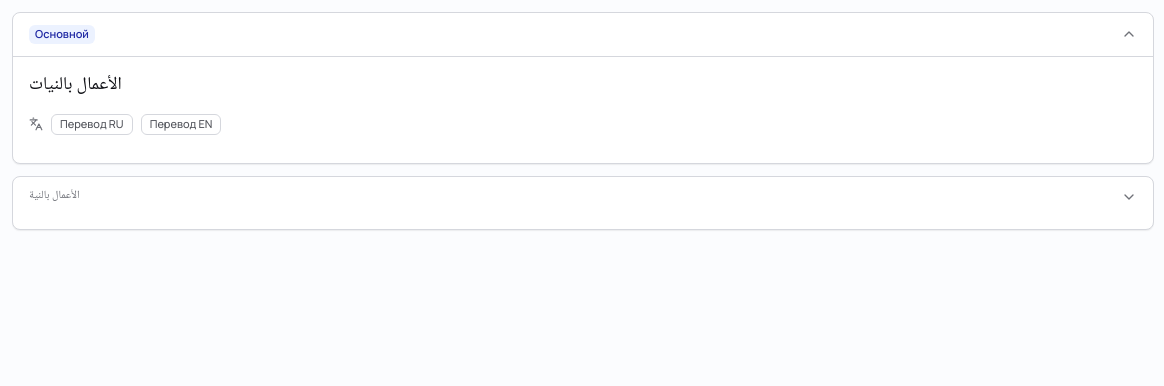
it: MatnVariations › toggle раскрывает пословный diff (легенда + кнопка скрытия)
Click the button "الأعمال بالنية".
click(54, 196)  # box [13,177,1153,217]
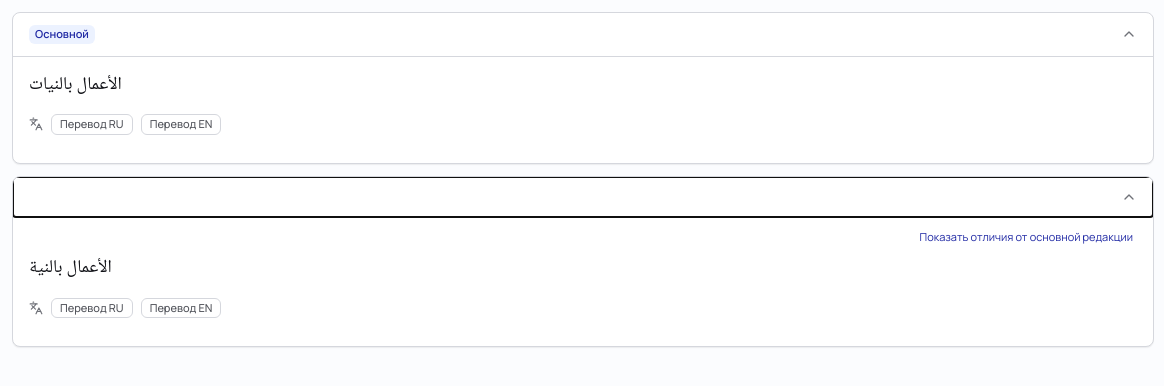
Click the button "Показать отличия от основной редакции".
click(1026, 237)  # box [916,230,1137,244]
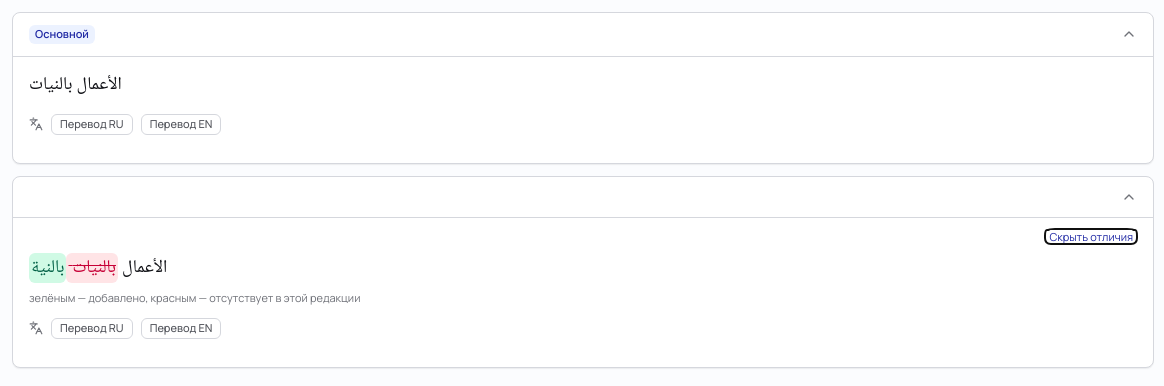
Expected: the text "зелёным — добавлено, красным — отсутствует в этой редакции" is shown, [29,290,360,305]
Expected: the button "Скрыть отличия" is shown, [1045,230,1137,244]
